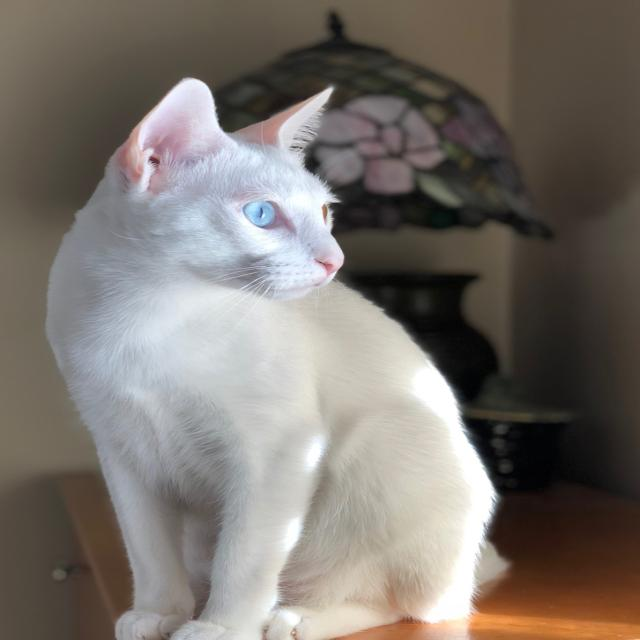Khao Manee: (39, 73, 514, 640)
